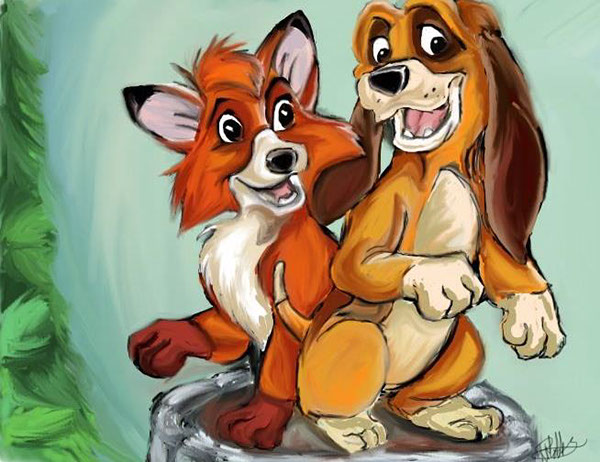dog: (272, 1, 572, 458), (122, 10, 342, 450)
